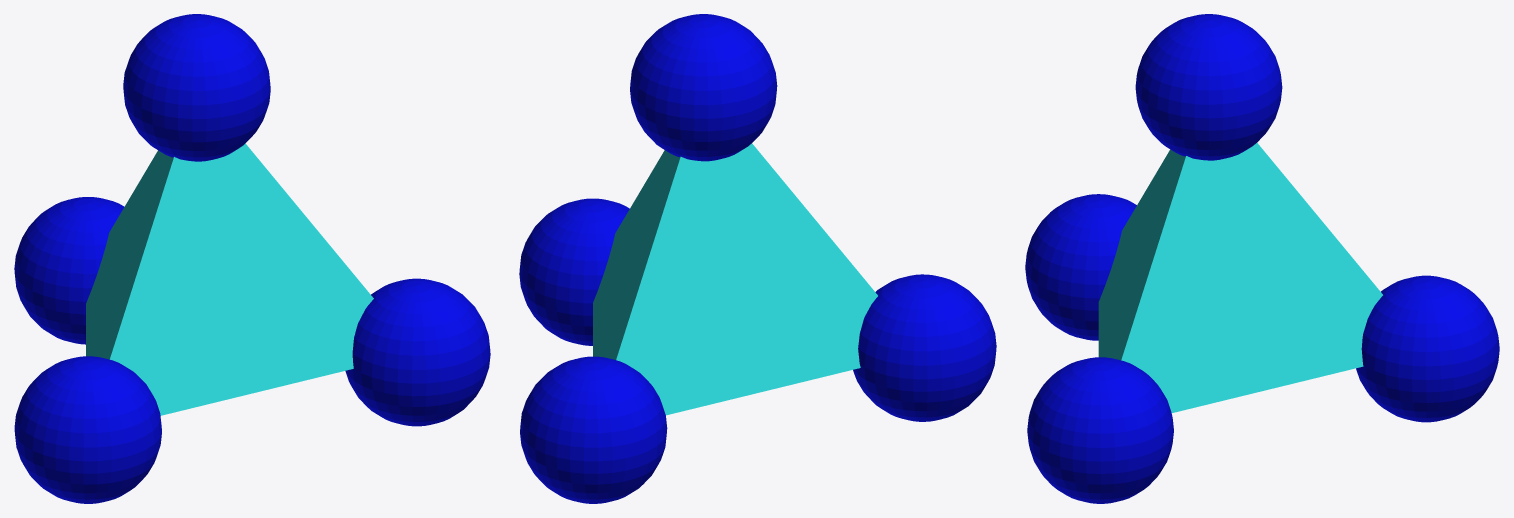
The model's file is BasicEEIGMTetra.glb.
3 renders of one model, left to right at view 1: azimuth 30°, elevation 25°; view 2: azimuth 150°, elevation 25°; view 3: azimuth 270°, elevation 25°, orthographic.
Parts seen in each view (by area): view 1: Cone, Cone.001; view 2: Cone, Cone.001; view 3: Cone, Cone.001.
Part boxes in pixels (left/top/right/bottom): Cone: left=14, top=14, right=490, bottom=503; Cone.001: left=86, top=143, right=373, bottom=415; Cone: left=519, top=14, right=996, bottom=503; Cone.001: left=593, top=143, right=877, bottom=415; Cone: left=1025, top=14, right=1499, bottom=503; Cone.001: left=1098, top=143, right=1382, bottom=412.
Size of the model in its own units: 3.57 by 2.98 by 3.23.
